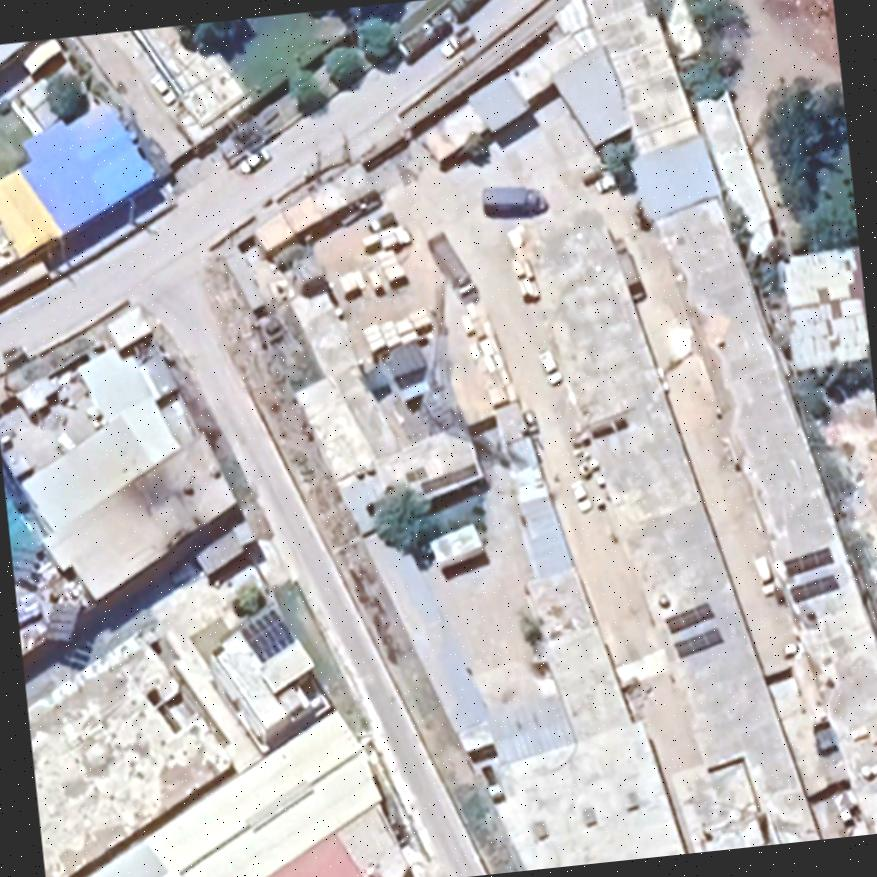Solarpanel: (232, 601, 302, 669), (651, 596, 724, 638), (771, 543, 840, 583), (779, 569, 846, 610), (668, 628, 732, 664)
